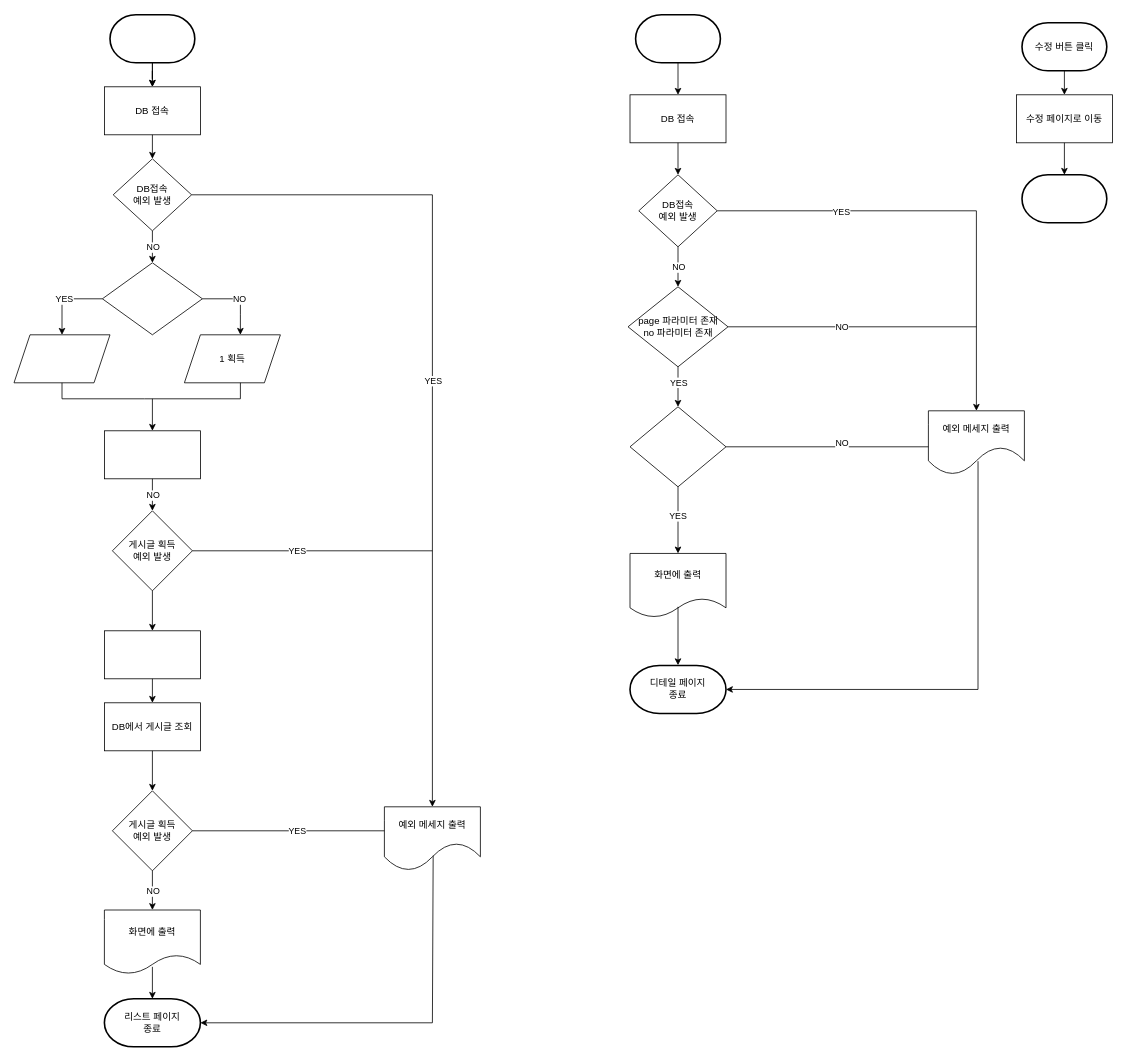
Some shapes in this 1126 by 1061 pixel diagram are drawn without their labels. The centre of each missing label's shape, as x and y in pixels:
DB에서 게시글 수 획득: the point at 152,454
page 파라미터 존재: the point at 152,298
page 획득: the point at 61,358
게시글 정보 획득: the point at 677,446
디테일 페이지 시작: the point at 677,38
리스트 페이지 시작: the point at 152,38
처리 종료: the point at 1064,198
페이지 관련 설정 셋팅: the point at 152,654
